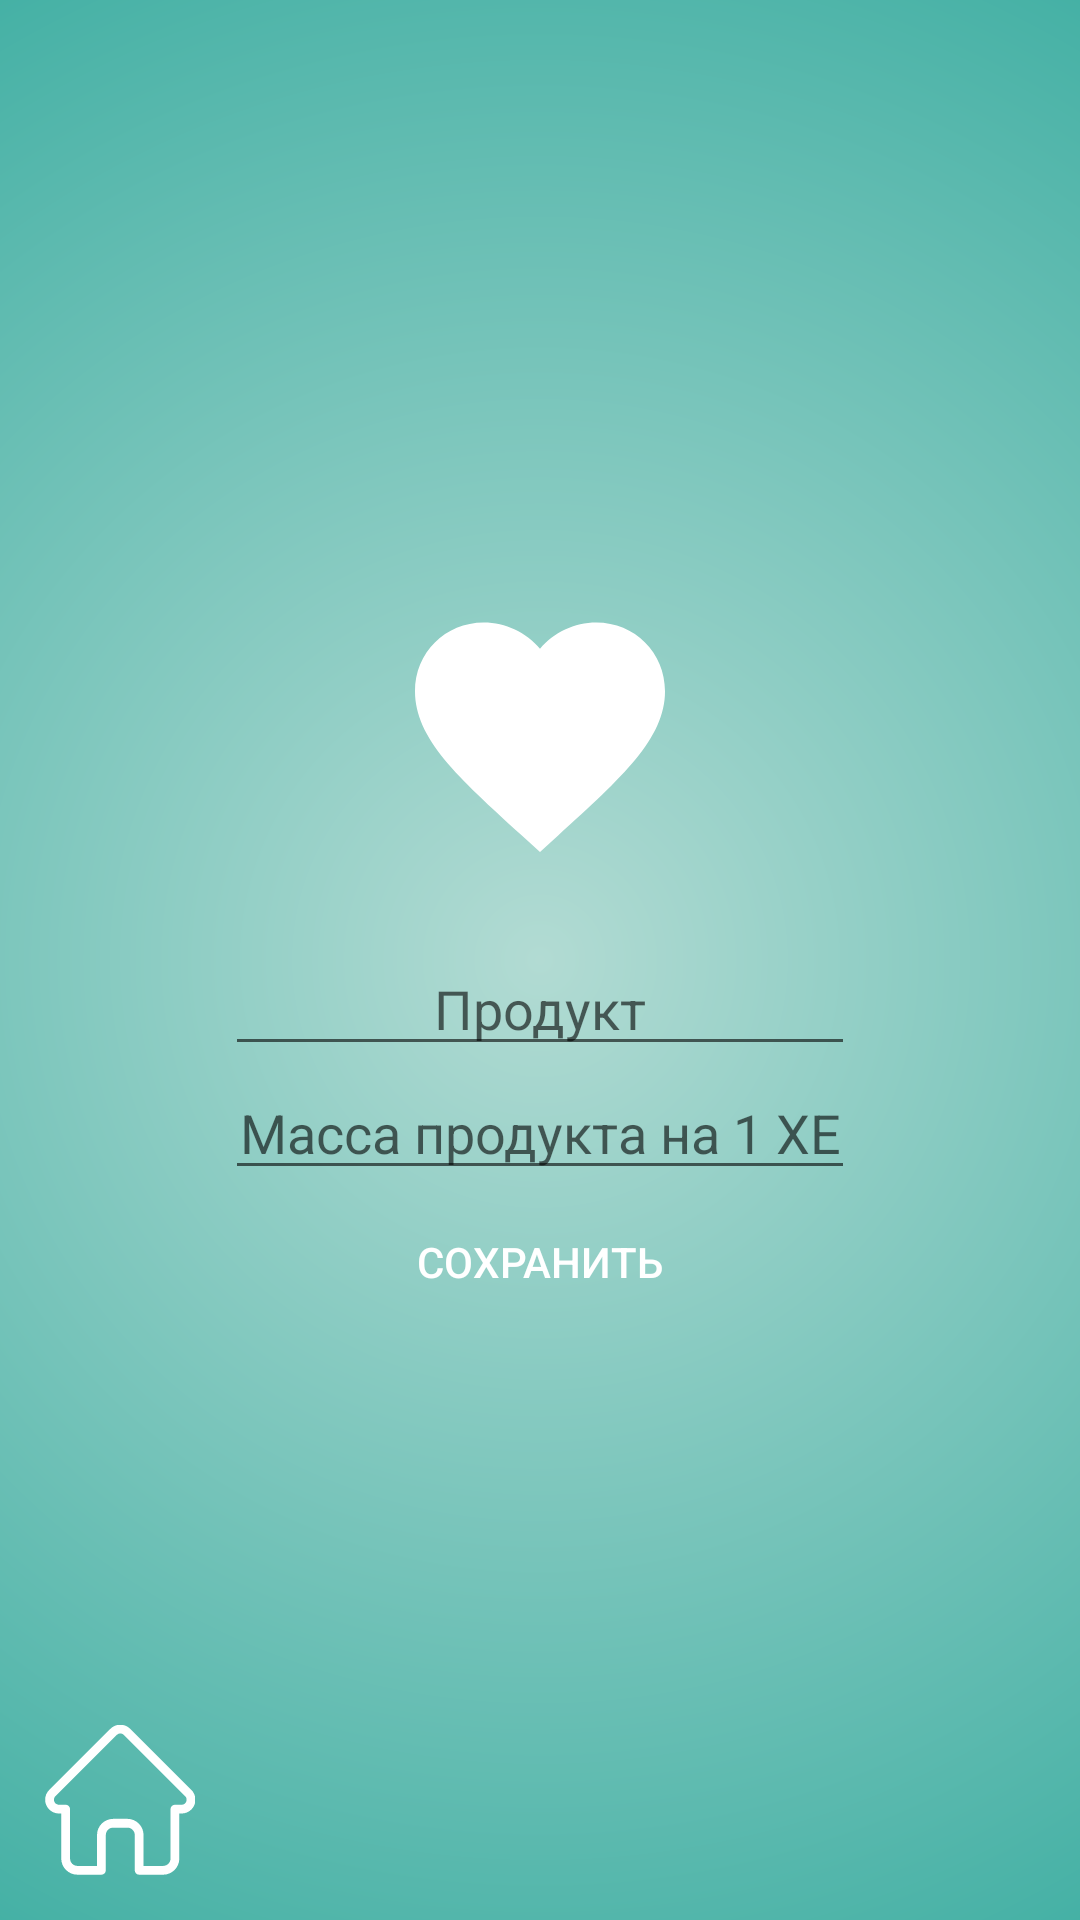

Screen size 1080 x 1920. Icon name, then its center in pixels as [x,y]:
home: [120,1800]
